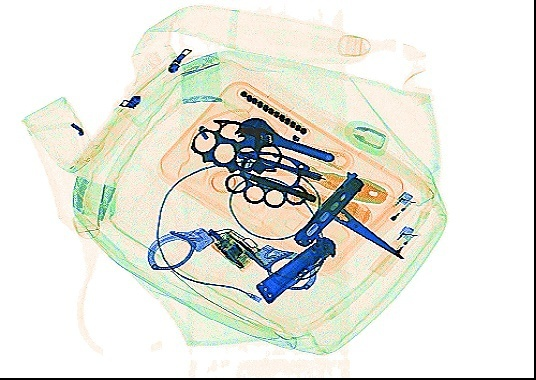handcuffs: (145, 225, 316, 292), (222, 148, 310, 208)
knife: (290, 169, 365, 248), (254, 234, 337, 304)
lighter: (367, 223, 417, 277), (365, 188, 417, 237)
scissors: (289, 178, 404, 260)
